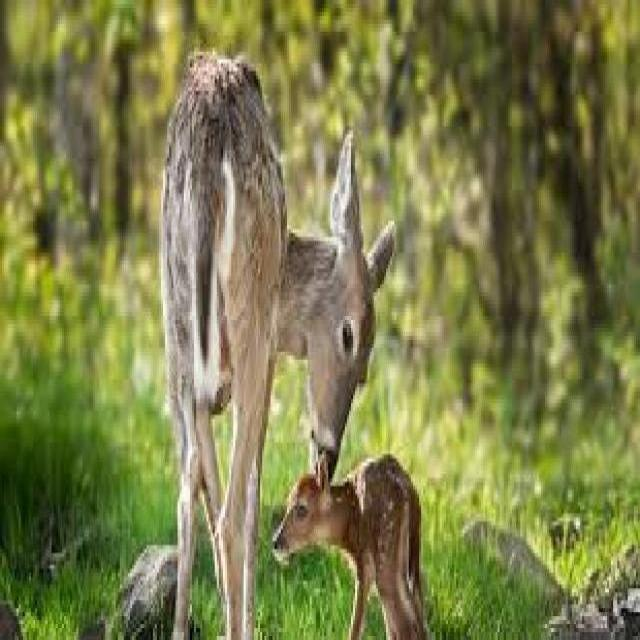deer: (164, 46, 398, 640), (266, 454, 432, 637)
